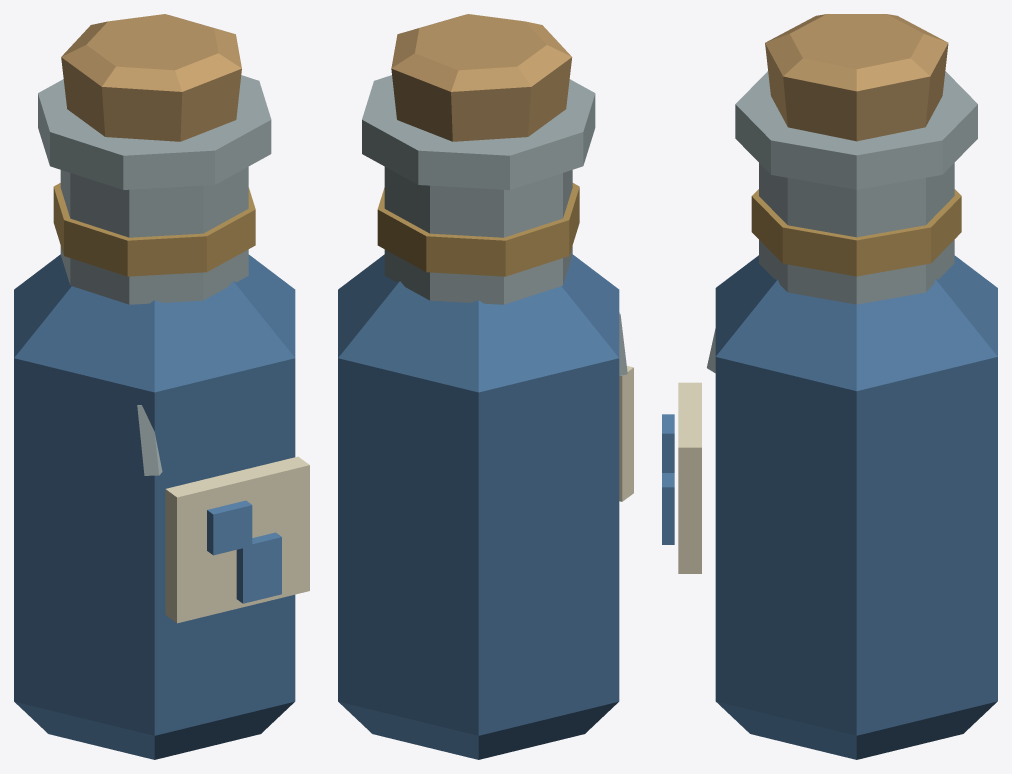
The model's file is item_potion_mana.glb.
The picture shows the model from 3 angles, left to right: view 1: azimuth 30°, elevation 25°; view 2: azimuth 150°, elevation 25°; view 3: azimuth 270°, elevation 25°; orthographic projection.
Parts seen in each view (by area): view 1: item_potion_mana; view 2: item_potion_mana; view 3: item_potion_mana.
Boxes of the visible parts, x1,y1,x2,y2 form: item_potion_mana: [14, 14, 309, 759]; item_potion_mana: [338, 14, 633, 759]; item_potion_mana: [662, 14, 997, 759].
Size of the model in its own units: 0.18 by 0.407 by 0.1854.
